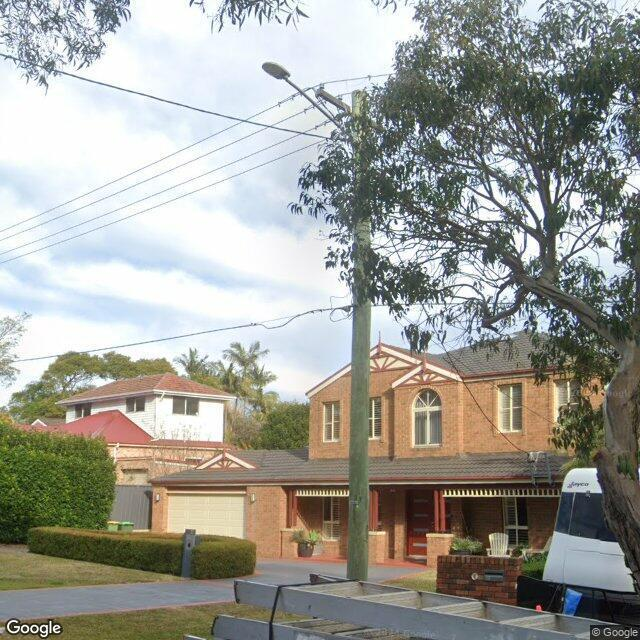crossarm: (314, 87, 386, 133)
streetlight: (260, 61, 360, 148)
timber-pole: (349, 89, 367, 580)
